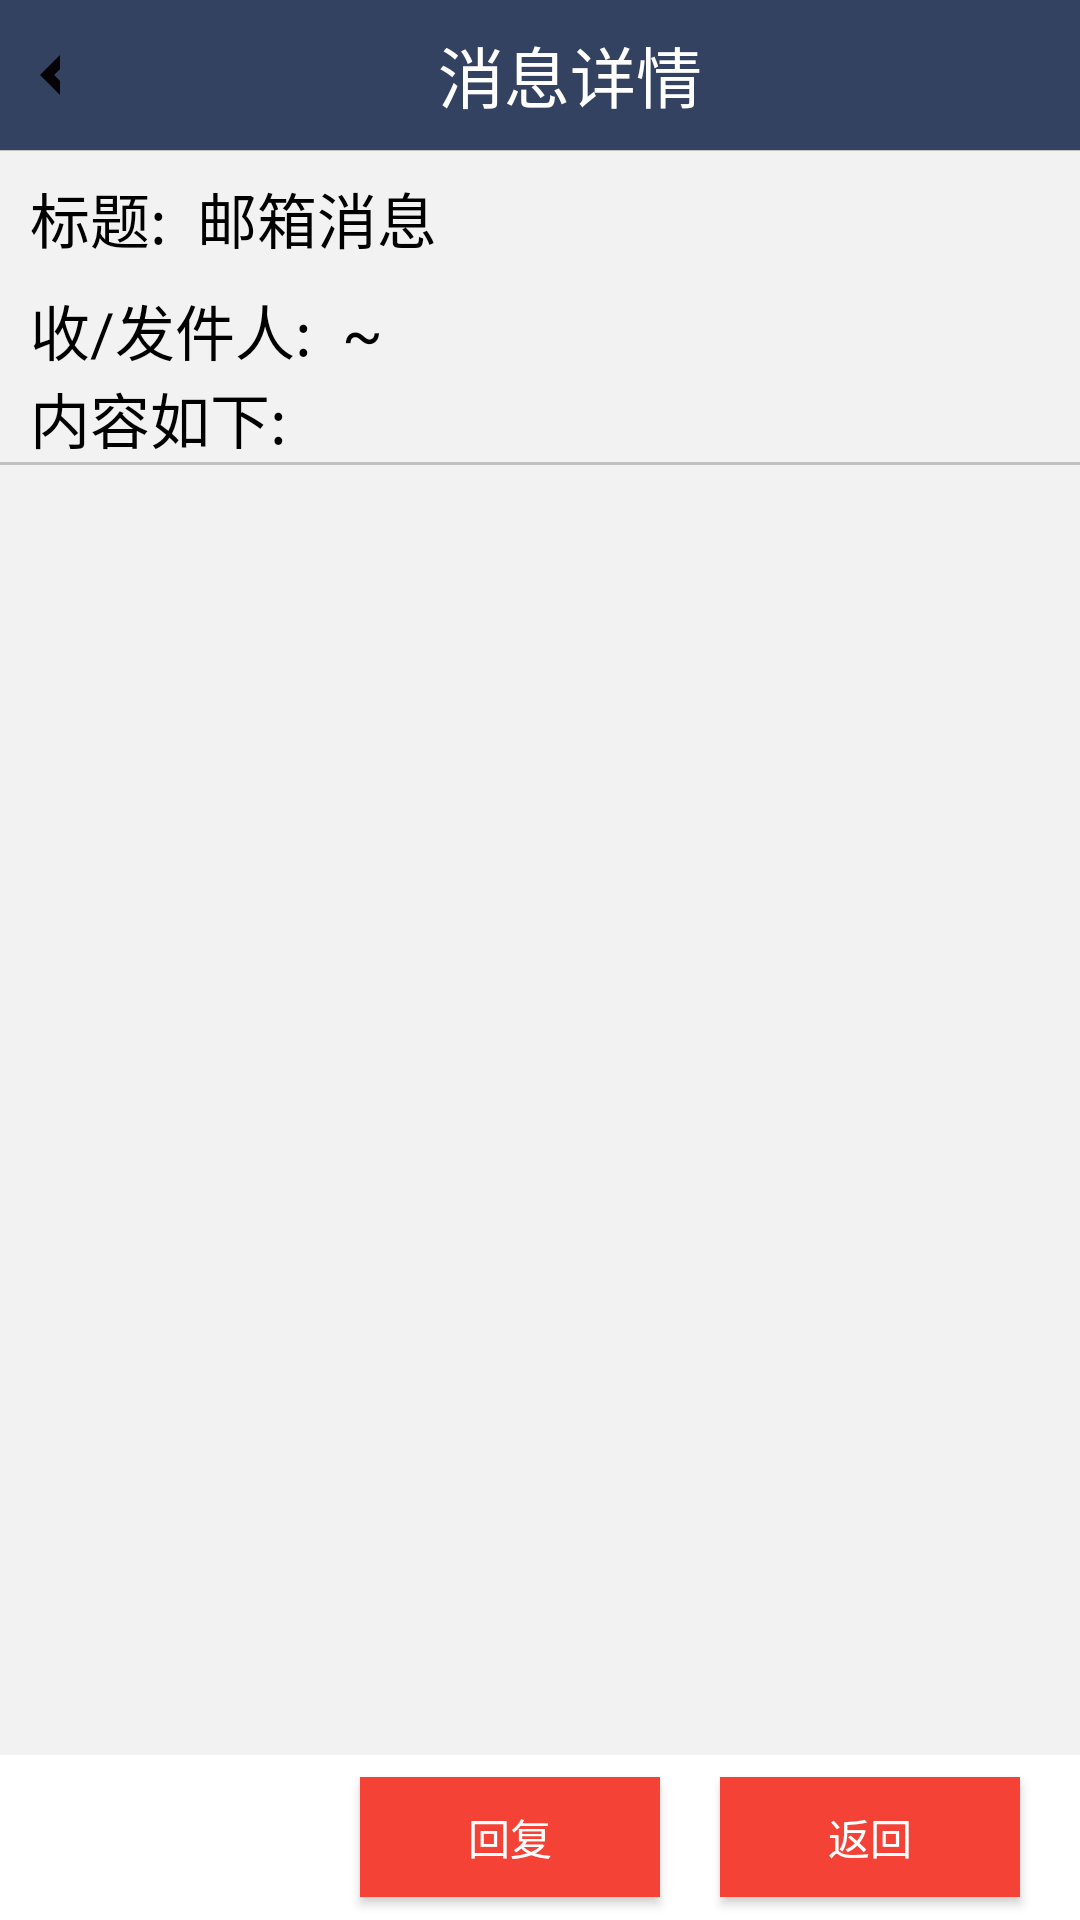

Named icons in this screenshot (1080px×1920px) and their bounding boxes, Rect(x1, y1, x2, y2):
keyboard arrow left: Rect(40, 55, 60, 95)
